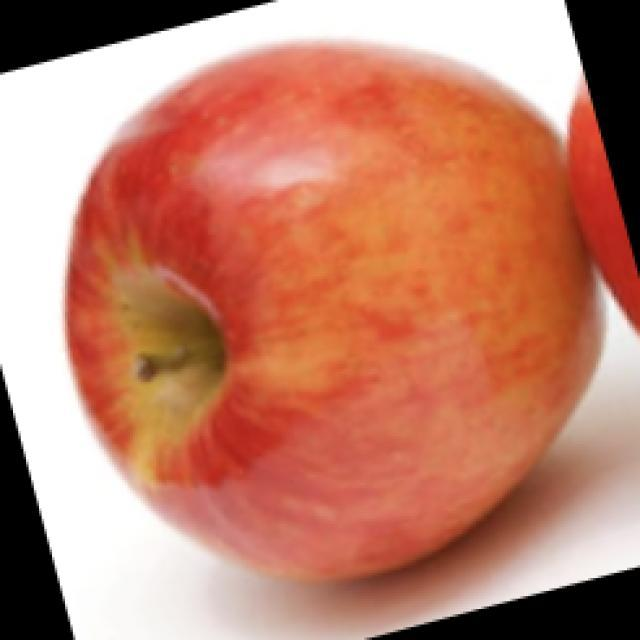Fresh Apple: (75, 50, 607, 578)
